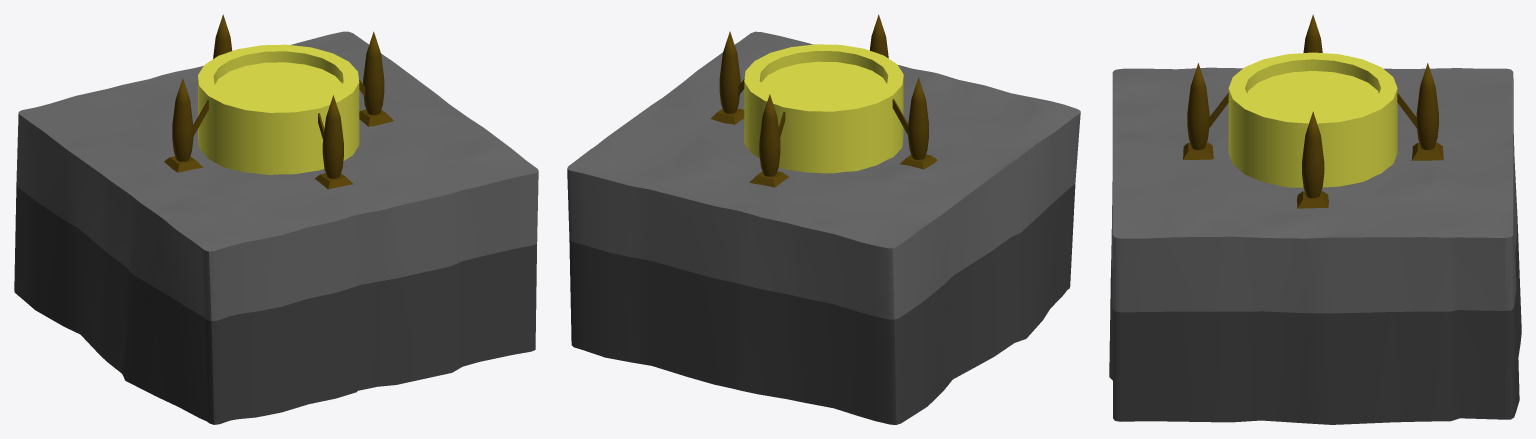
Rendered from rocket_base_moon.fbx.
3 views of the same model, side by side, from view 1: azimuth 30°, elevation 25°; view 2: azimuth 150°, elevation 25°; view 3: azimuth 270°, elevation 25° (orthographic). The views are drawn at different scales.
Parts seen in each view (by area): view 1: polySurface16, polySurface26, polySurface18, polySurface27, polySurface25, polySurface24; view 2: polySurface16, polySurface26, polySurface24, polySurface18, polySurface25, polySurface27; view 3: polySurface16, polySurface26, polySurface25, polySurface27, polySurface24, polySurface18, polySurface23, polySurface30, polySurface28.
Boxes of the visible parts, x1=… form: polySurface16: x1=14, y1=31, x2=538, y2=424; polySurface26: x1=198, y1=44, x2=359, y2=174; polySurface18: x1=172, y1=78, x2=193, y2=161; polySurface27: x1=322, y1=95, x2=343, y2=178; polySurface25: x1=363, y1=31, x2=384, y2=114; polySurface24: x1=213, y1=14, x2=232, y2=58; polySurface16: x1=567, y1=31, x2=1080, y2=424; polySurface26: x1=744, y1=44, x2=903, y2=173; polySurface24: x1=759, y1=94, x2=780, y2=176; polySurface18: x1=908, y1=77, x2=928, y2=159; polySurface25: x1=719, y1=31, x2=740, y2=113; polySurface27: x1=869, y1=14, x2=888, y2=58; polySurface16: x1=1109, y1=67, x2=1521, y2=424; polySurface26: x1=1228, y1=52, x2=1397, y2=187; polySurface25: x1=1302, y1=111, x2=1324, y2=198; polySurface27: x1=1187, y1=63, x2=1209, y2=149; polySurface24: x1=1416, y1=63, x2=1438, y2=149; polySurface18: x1=1303, y1=14, x2=1322, y2=52; polySurface23: x1=1411, y1=142, x2=1443, y2=160; polySurface30: x1=1297, y1=191, x2=1328, y2=208; polySurface28: x1=1183, y1=142, x2=1213, y2=159.
Bounding box in the file's own units: 20.78 × 15.03 × 20.34.
